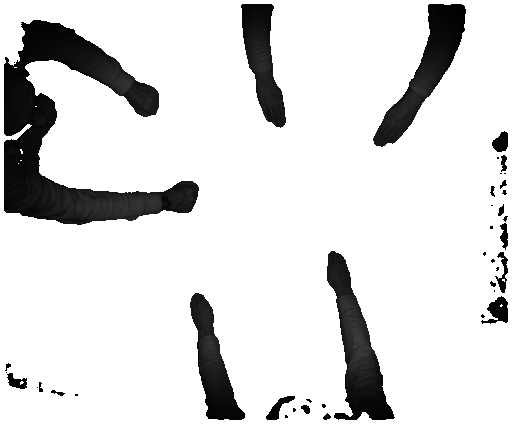fist: (167, 176, 199, 215), (129, 85, 159, 119)
hand: (368, 103, 418, 151), (320, 248, 354, 295), (256, 79, 287, 127), (184, 288, 215, 330)
